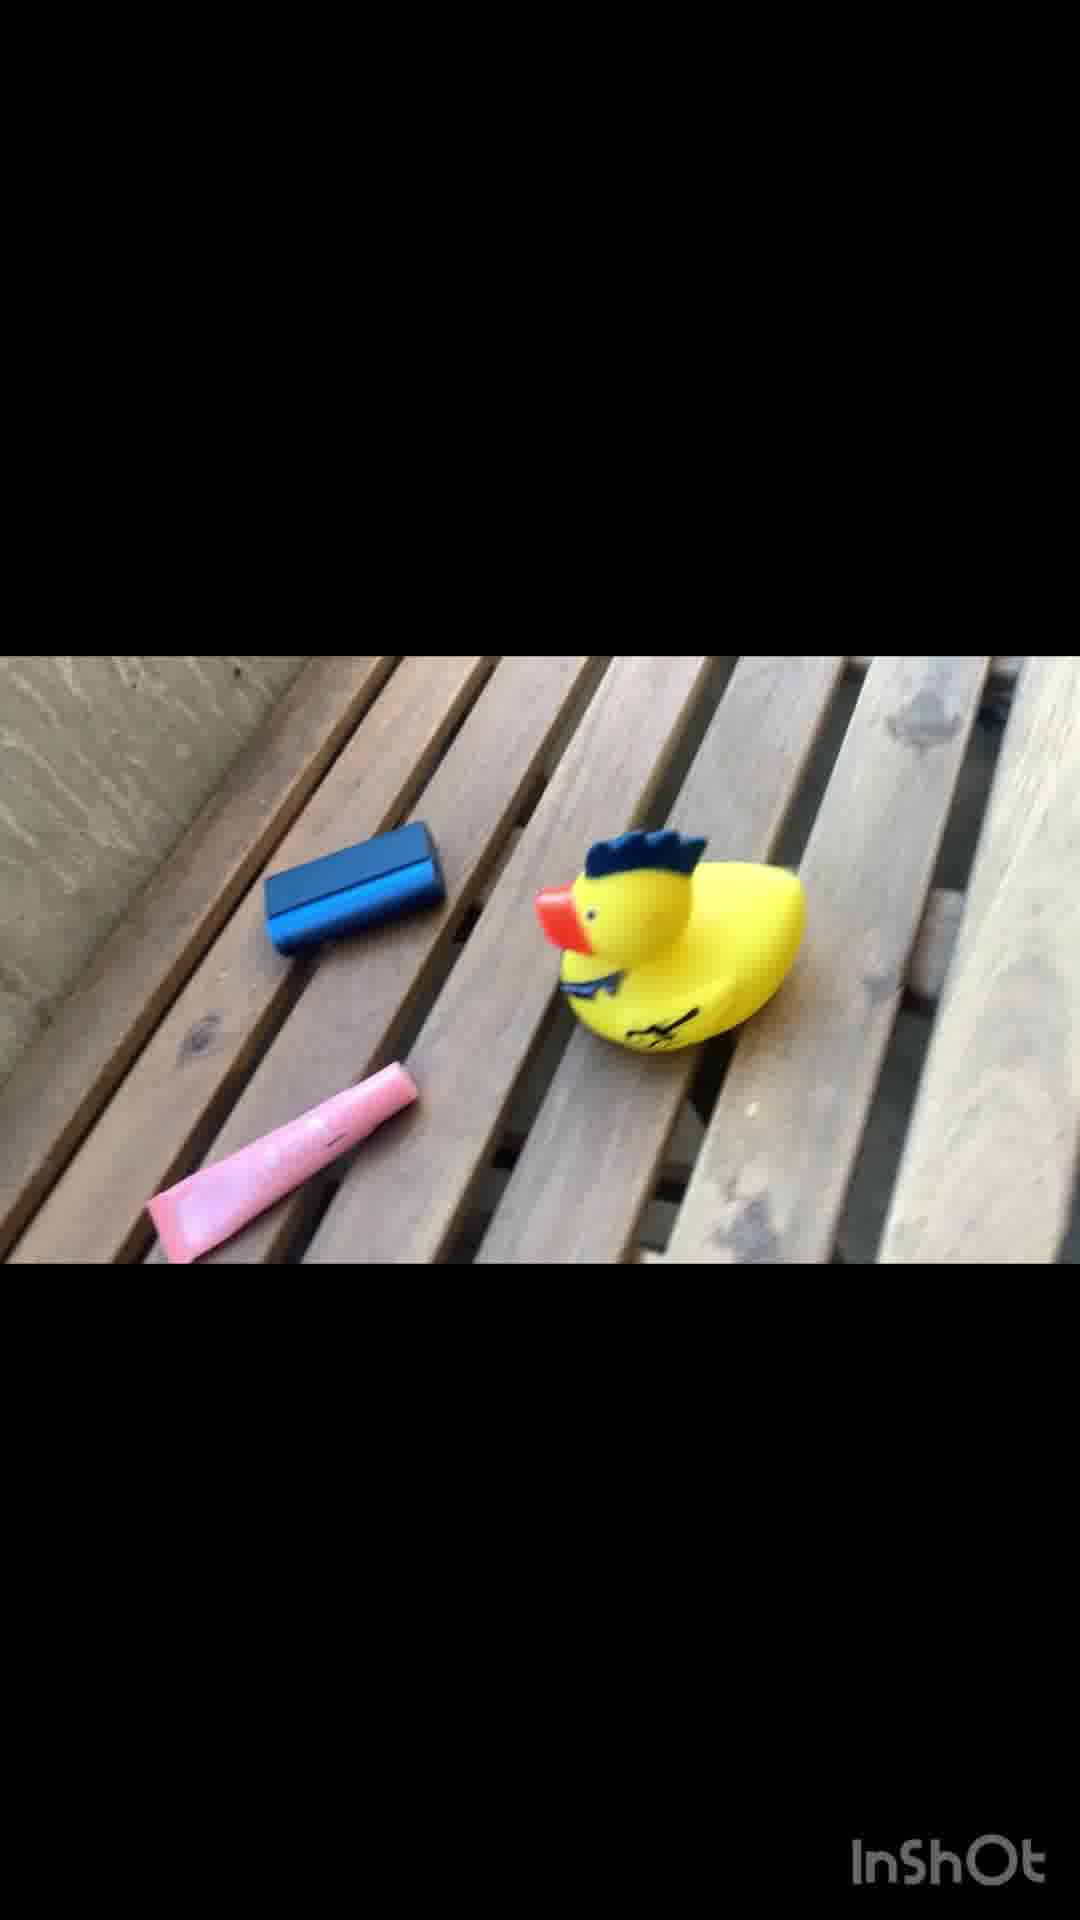duck: (559, 808, 823, 1059)
glo: (251, 814, 451, 964)
lip balm: (128, 1067, 405, 1262)
